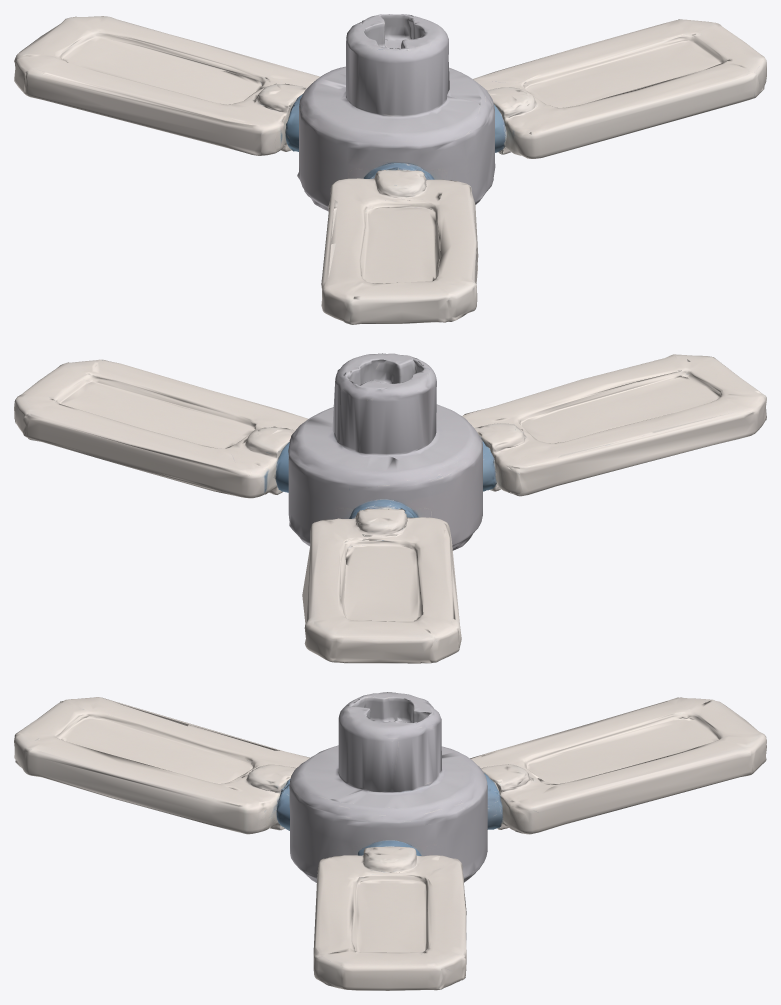
File: Meshy_AI_Soft_Modular_Hub_20261027_texture.fbx
The picture shows the model from 3 angles, top to bottom: view 1: azimuth 30°, elevation 25°; view 2: azimuth 150°, elevation 25°; view 3: azimuth 270°, elevation 25°; orthographic projection.
Visible parts, largest first — view 1: Mesh_0; view 2: Mesh_0; view 3: Mesh_0.
Part boxes in pixels (x1,y1,x2,y2): Mesh_0: (14, 14, 766, 324); Mesh_0: (14, 353, 766, 663); Mesh_0: (14, 692, 766, 990).
Size of the model in its own units: 82.32 by 22.41 by 95.7.
1 material, 1 textured.
